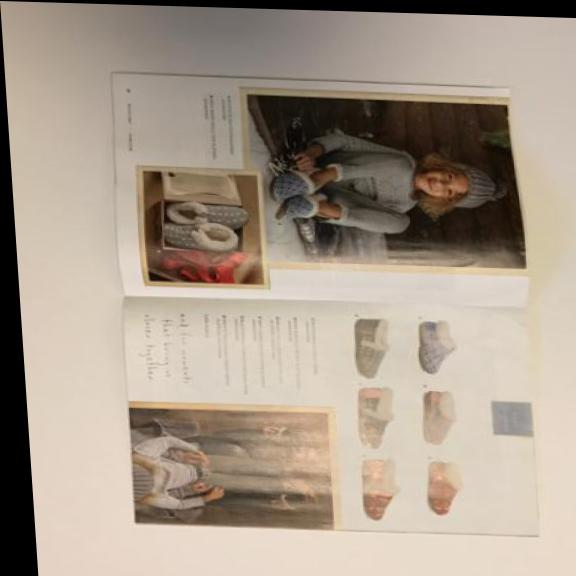Kertas: (79, 63, 567, 549)
